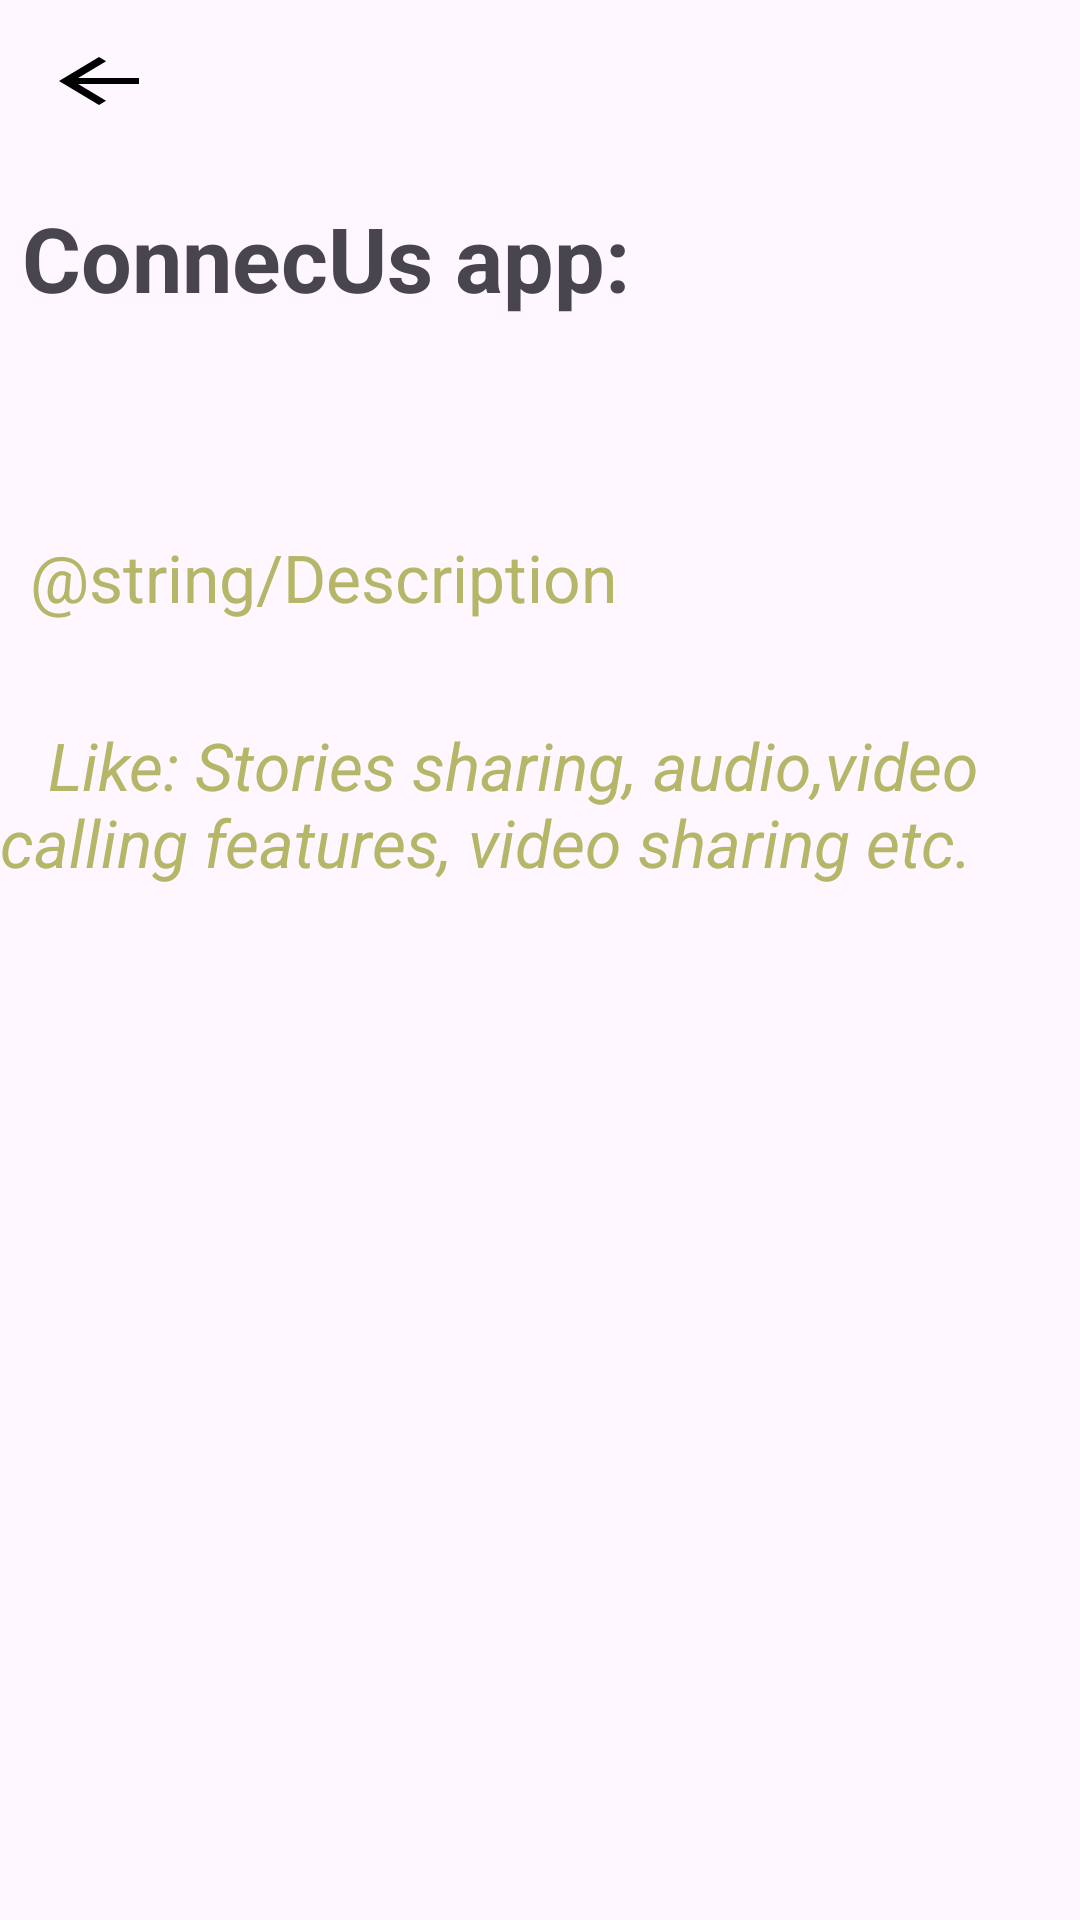

Named icons in this screenshot (1080px×1920px) and their centers, point (x, y):
arrow back: point (99, 81)
